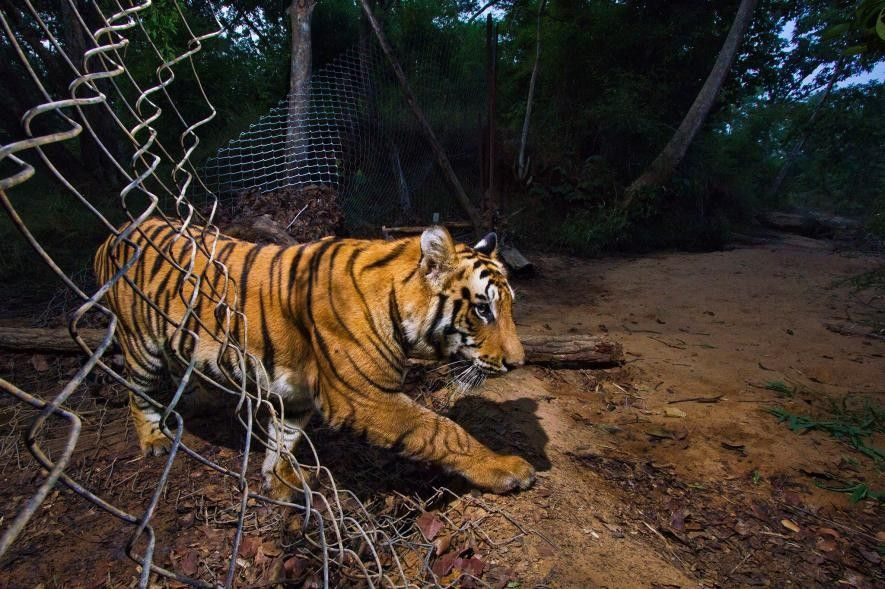Tigrew: (62, 179, 582, 531)
